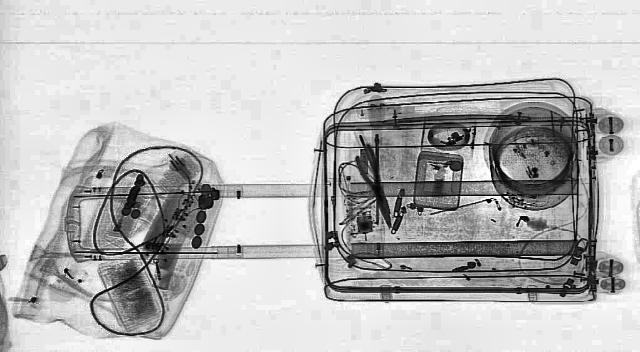Pliers: (348, 144, 402, 228)
